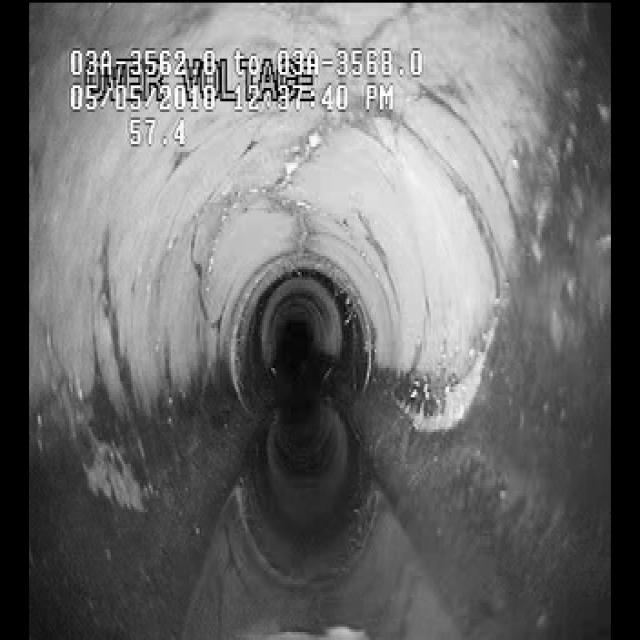Fracture: (202, 128, 338, 260)
